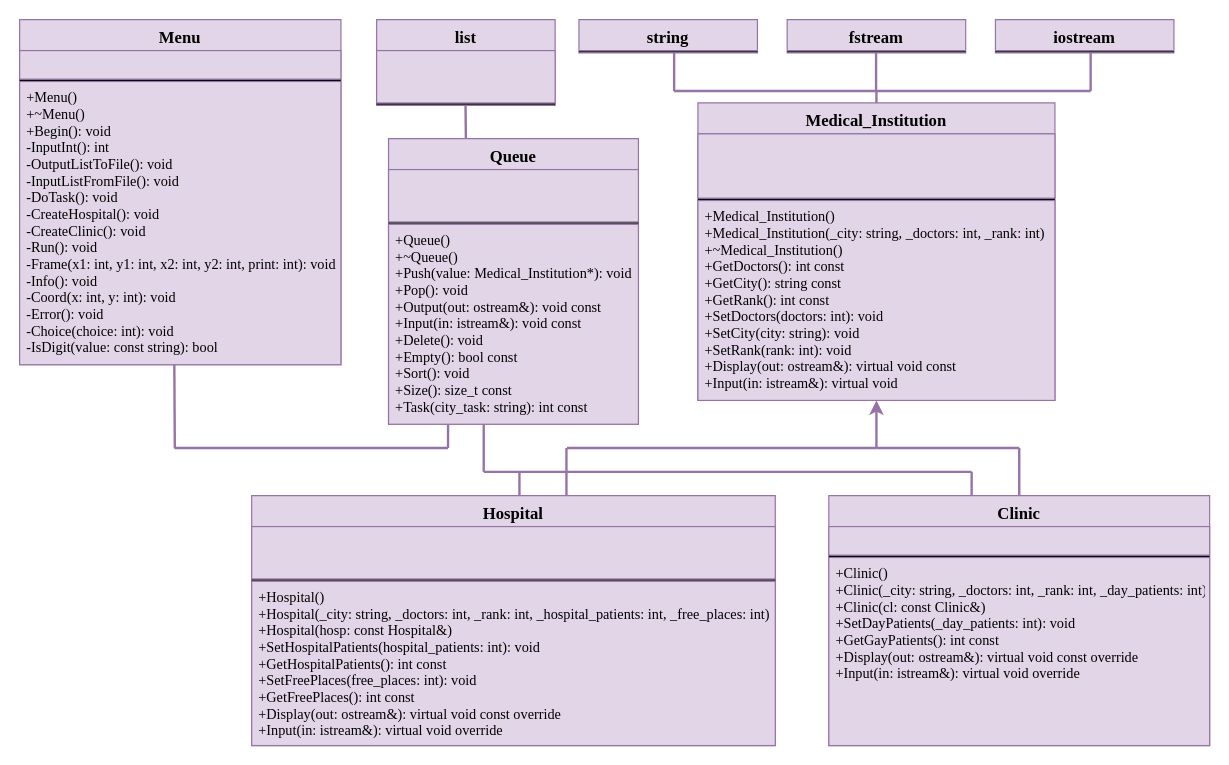
Some shapes in this 1229 by 765 pixel diagram are drawn without their labels. Here are the shapes that lost their labels. From the top down, the centre of each, then its label:
[179,64]: -lst: Queue
[465,76]: +field: Medical_Institution* +next: list*
[876,165]: #city: string #doctors: int #rank: int
[512,195]: -beg_q: list* -end_q: list*
[512,552]: -hospital_patients: int -free_places: int
[1019,540]: -day_patients: int
